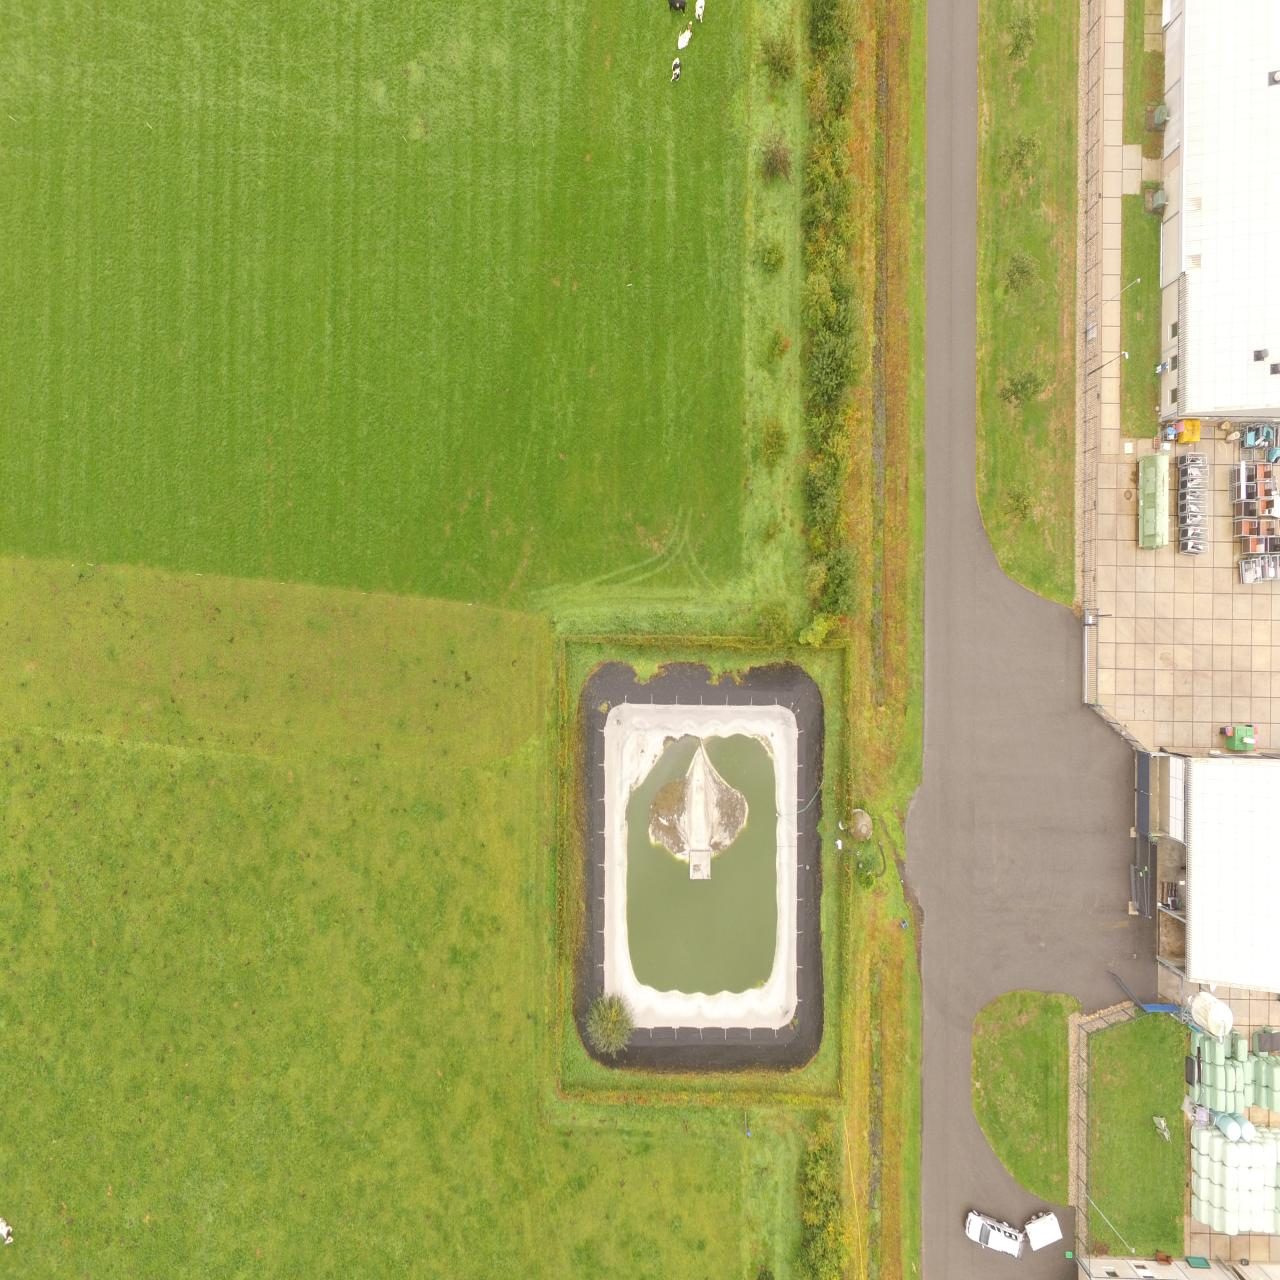cow: (678, 20, 692, 50), (668, 0, 688, 17), (669, 57, 681, 84), (694, 0, 703, 23)
